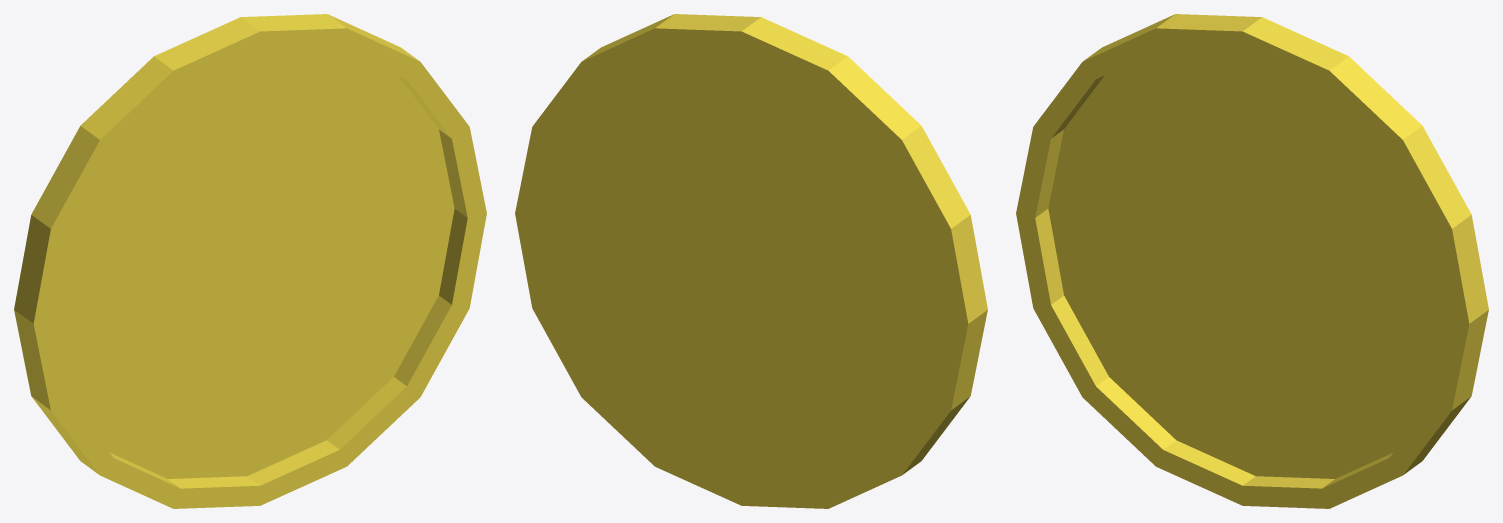
File: coin.glb
The picture shows the model from 3 angles, left to right: view 1: azimuth 30°, elevation 25°; view 2: azimuth 150°, elevation 25°; view 3: azimuth 330°, elevation 25°; orthographic projection.
Visible parts, largest first — view 1: coin; view 2: coin; view 3: coin.
Boxes of the visible parts, x1,y1,x2,y2 form: coin: (14,14,486,508); coin: (515,14,987,508); coin: (1016,14,1488,508).
Bounding box in the file's own units: 4 × 4 × 0.3.
